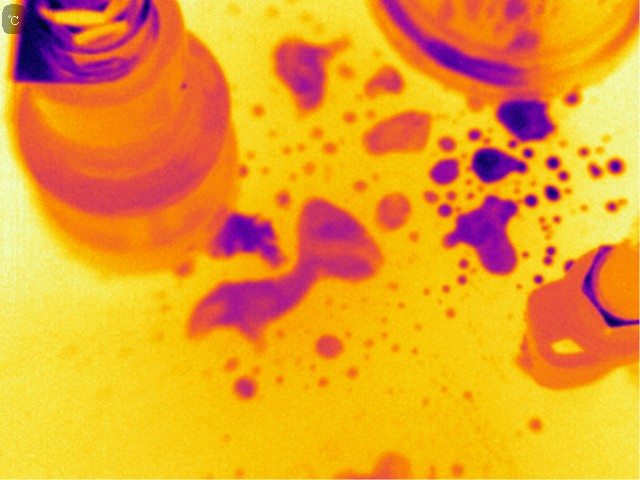Water: (195, 274, 309, 336), (271, 33, 349, 115), (297, 199, 375, 281), (455, 194, 524, 276), (267, 125, 339, 182), (358, 110, 433, 159), (220, 209, 281, 264), (321, 446, 418, 480), (469, 146, 533, 191), (195, 434, 252, 480), (497, 101, 556, 143), (367, 194, 413, 232), (578, 143, 626, 179), (437, 127, 490, 154), (363, 66, 403, 95), (361, 331, 403, 356), (531, 210, 563, 242), (386, 278, 410, 314), (546, 156, 562, 207), (560, 81, 586, 112), (345, 170, 381, 190), (317, 336, 348, 358), (430, 159, 458, 183), (270, 370, 303, 390), (605, 188, 629, 215), (234, 376, 260, 397), (445, 459, 470, 479), (458, 385, 477, 411), (525, 413, 546, 436), (539, 243, 558, 268), (217, 356, 244, 373), (342, 364, 366, 382), (314, 374, 335, 392), (528, 268, 547, 286), (248, 99, 266, 118), (445, 304, 462, 322), (275, 189, 294, 204), (556, 168, 573, 184), (241, 162, 251, 182), (408, 342, 421, 357)
